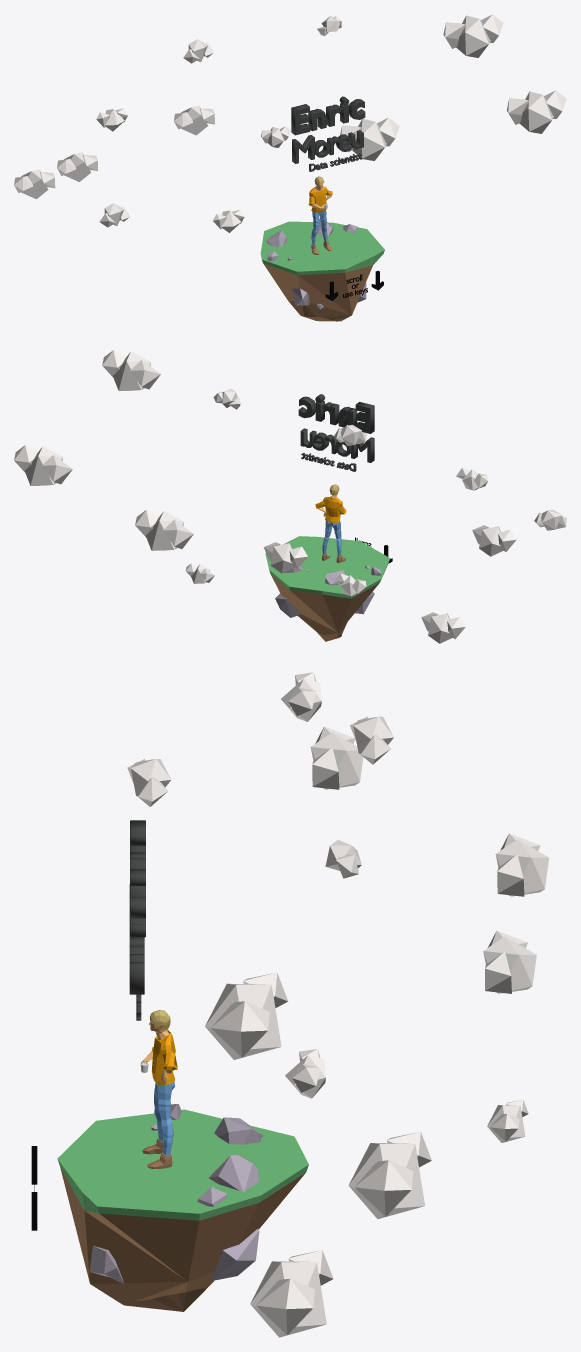
Rendered from title.glb.
3 views of the same model, one above another, from view 1: azimuth 30°, elevation 25°; view 2: azimuth 150°, elevation 25°; view 3: azimuth 270°, elevation 25° (orthographic). The views are drawn at different scales.
Visible parts, largest first — view 1: Cylinder, Sphere.007, Sphere.010, Text.001, Sphere.004, Text.003, Cylinder.002, Sphere.005, Sphere.008, Sphere.011, Sphere.006, Sphere.001 (+3 smaller); view 2: Cylinder, Text.001, Sphere.010, Sphere.007, Sphere.004, Cylinder.002, Text.003, Sphere.005, Sphere.011, Sphere.008, Sphere.009, Sphere.002 (+4 smaller); view 3: Cylinder, Sphere.010, Sphere.004, Sphere.007, Cylinder.002, Sphere.008, Sphere.005, Sphere.011, Text.001, Sphere.002, Sphere.009, Sphere.001 (+7 smaller).
Part boxes in pixels (<box>): Cylinder: <box>260,221,384,321</box>; Sphere.007: <box>443,14,503,57</box>; Sphere.010: <box>506,90,566,133</box>; Text.001: <box>291,96,365,135</box>; Sphere.004: <box>340,117,399,160</box>; Text.003: <box>292,130,363,163</box>; Cylinder.002: <box>308,176,332,254</box>; Sphere.005: <box>174,105,214,135</box>; Sphere.008: <box>14,169,55,199</box>; Sphere.011: <box>57,152,97,181</box>; Sphere.006: <box>213,209,244,232</box>; Sphere.001: <box>96,108,127,131</box>; Cylinder: <box>265,536,390,641</box>; Text.001: <box>298,394,374,433</box>; Sphere.010: <box>14,445,72,485</box>; Sphere.007: <box>102,350,160,390</box>; Sphere.004: <box>135,510,193,550</box>; Cylinder.002: <box>315,484,346,562</box>; Text.003: <box>300,428,374,462</box>; Sphere.005: <box>263,542,307,573</box>; Sphere.011: <box>472,525,516,556</box>; Sphere.008: <box>421,612,465,643</box>; Sphere.009: <box>534,509,566,530</box>; Sphere.002: <box>334,424,366,445</box>; Cylinder: <box>57,1109,308,1311</box>; Sphere.010: <box>250,1250,333,1337</box>; Sphere.004: <box>348,1131,431,1219</box>; Sphere.007: <box>205,972,288,1059</box>; Cylinder.002: <box>140,1010,177,1168</box>; Sphere.008: <box>495,833,549,896</box>; Sphere.005: <box>483,930,536,993</box>; Sphere.011: <box>310,726,363,789</box>; Text.001: <box>130,820,145,937</box>; Sphere.002: <box>350,716,393,764</box>; Sphere.009: <box>127,759,171,806</box>; Sphere.001: <box>281,672,321,721</box>.
Size of the model in its own units: 19.29 by 9.68 by 8.61.
